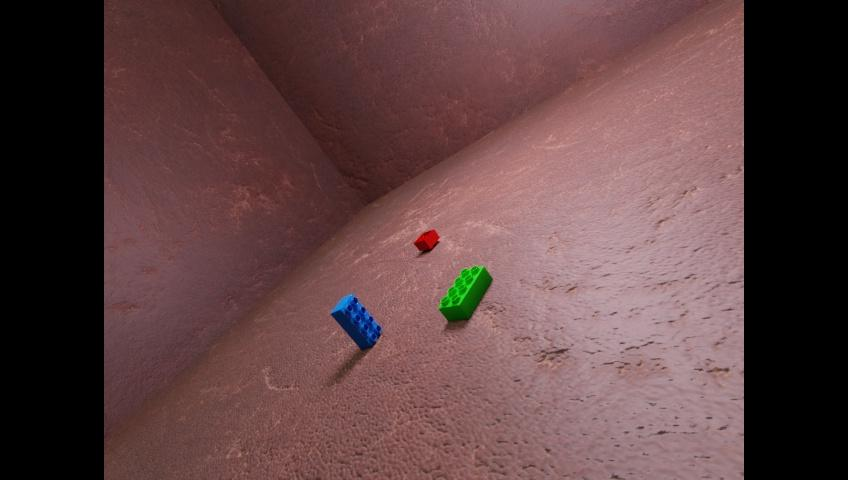2x2_red: (413, 228, 439, 251)
4x2_blue: (330, 293, 381, 350)
4x2_green: (438, 265, 491, 321)
